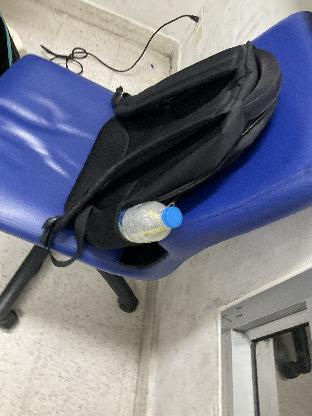Plastic Bottle: (116, 198, 182, 244)
